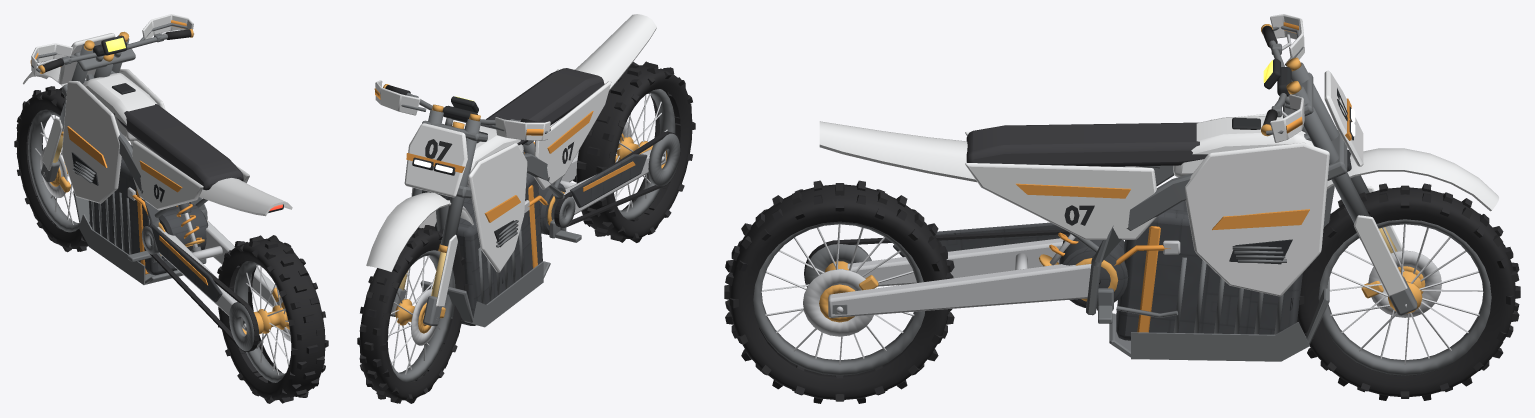
Rendered from dirtbike.glb.
3 renders of one model, left to right at view 1: azimuth 30°, elevation 25°; view 2: azimuth 150°, elevation 25°; view 3: azimuth 270°, elevation 25°, orthographic. The views are drawn at different scales.
Parts seen in each view (by area): view 1: bike_body, bike_rear_wheel, bike_front_wheel, bike_swingarm, bike_fork, bike_front_susp, bike_shock_upper; view 2: bike_body, bike_rear_wheel, bike_fork, bike_front_wheel, bike_swingarm, bike_front_susp; view 3: bike_body, bike_rear_wheel, bike_front_wheel, bike_swingarm, bike_fork, bike_front_susp.
Boxes of the visible parts, box(x1,y1,x2,y2) form: bike_body: box(62, 64, 292, 284); bike_rear_wheel: box(217, 235, 328, 403); bike_front_wheel: box(14, 86, 89, 252); bike_swingarm: box(142, 219, 288, 351); bike_fork: box(23, 14, 193, 136); bike_front_susp: box(41, 117, 70, 192); bike_shock_upper: box(176, 202, 201, 240); bike_body: box(411, 14, 656, 327); bike_rear_wheel: box(573, 61, 695, 242); bike_fork: box(366, 80, 550, 271); bike_front_wheel: box(357, 225, 468, 403); bike_swingarm: box(554, 131, 680, 227); bike_front_susp: box(390, 234, 457, 326); bike_body: box(819, 113, 1334, 361); bike_rear_wheel: box(724, 180, 954, 403); bike_front_wheel: box(1297, 183, 1520, 400); bike_swingarm: box(804, 222, 1091, 317); bike_fork: box(1261, 14, 1498, 223); bike_front_susp: box(1354, 186, 1417, 315).
Size of the model in its own units: 0.8746 by 1.27 by 2.76.
Materials: 14 (1 with a texture image).
